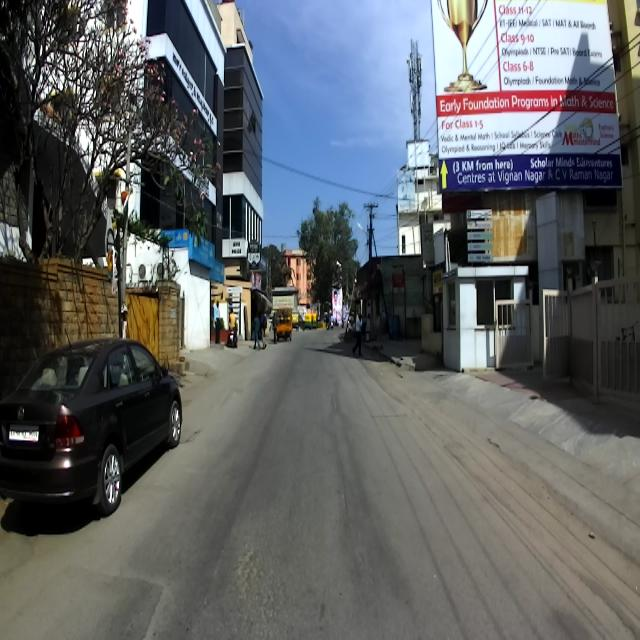car ahead at: (9, 333, 190, 536)
